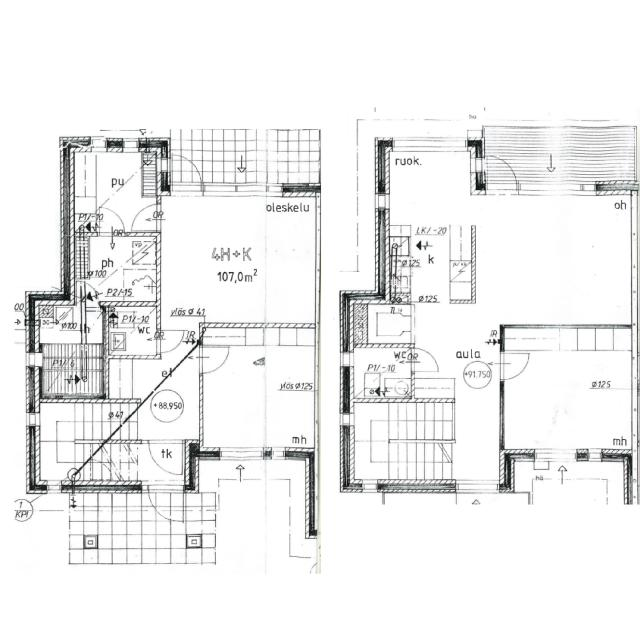door: (149, 481, 183, 527), (486, 152, 516, 194), (172, 154, 201, 197), (149, 439, 182, 476), (500, 352, 532, 380), (200, 346, 230, 374), (130, 204, 160, 230), (99, 208, 125, 236), (411, 348, 439, 372), (156, 331, 182, 353), (76, 280, 98, 305)
